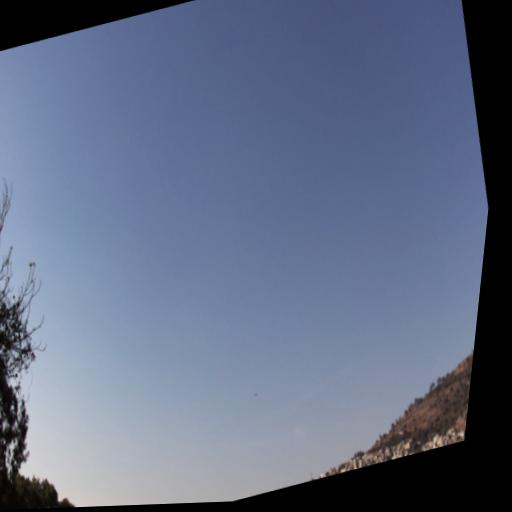drones: (250, 388, 262, 399)
